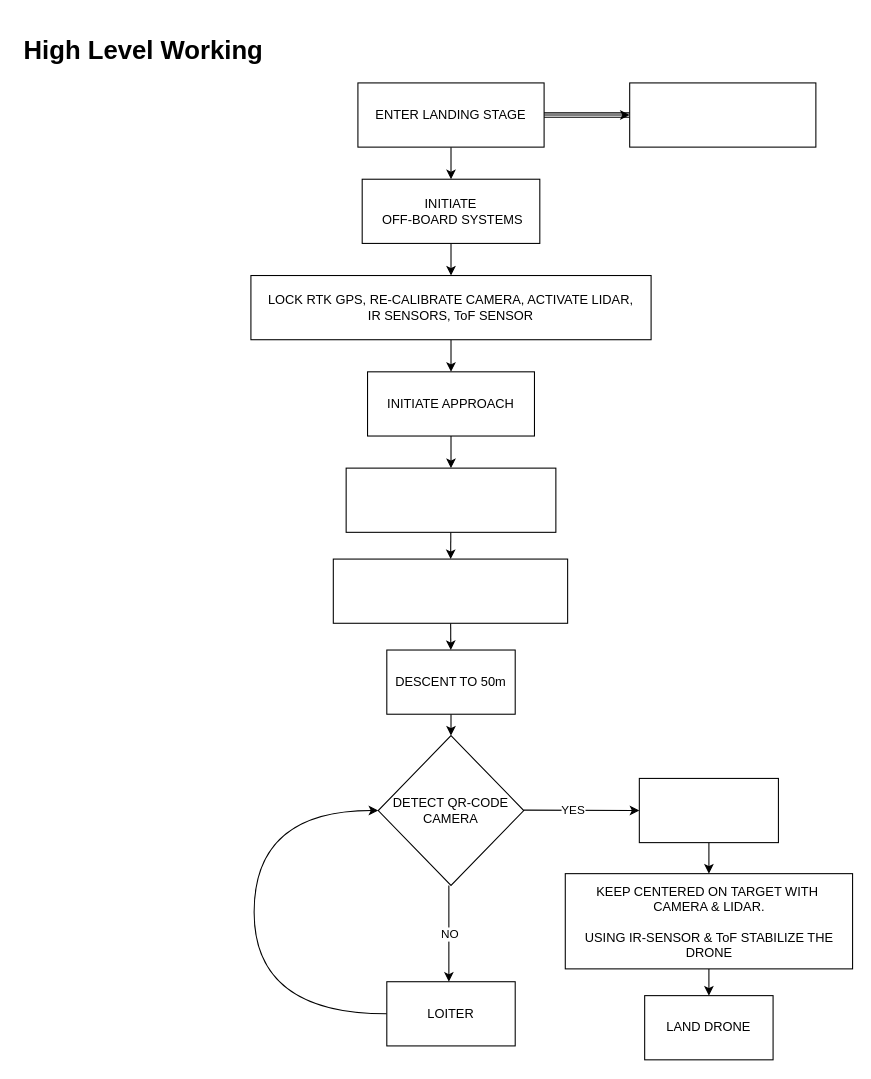
Some shapes in this 871 by 1079 pixel diagram are drawn without their labels. The shapes that lost their labels are listed below. From the top down, each one's centre as x and y in pixels, then its label:
[722,114]: 500m - 1km from landing port
[450,499]: APPROACH HORIZONTALLY TO LAND SITE.
[450,590]: EXACT TO RTK CO-ORDINATES
[708,810]: INITIATE FINAL APPROACH
